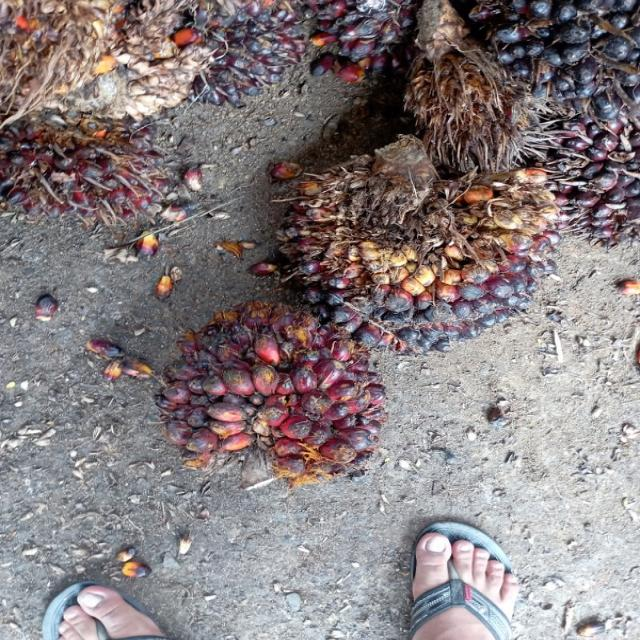fraksi 00: (259, 131, 555, 361)
fraksi 1: (156, 303, 394, 482)
